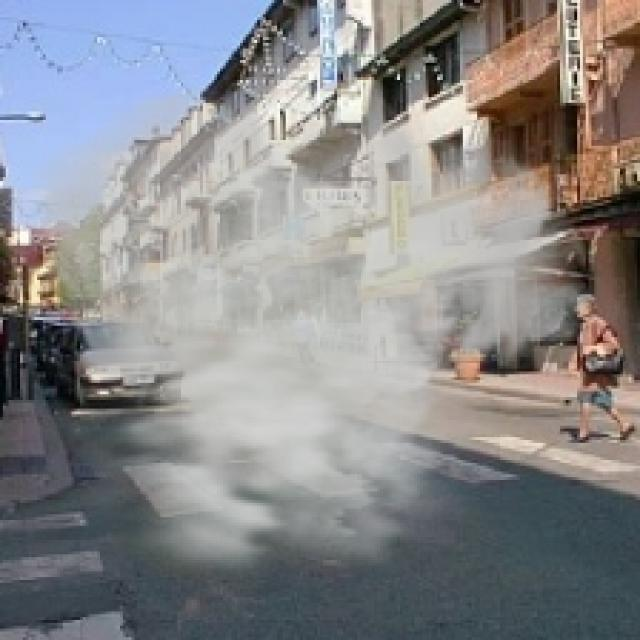smoke: (26, 83, 594, 600)
